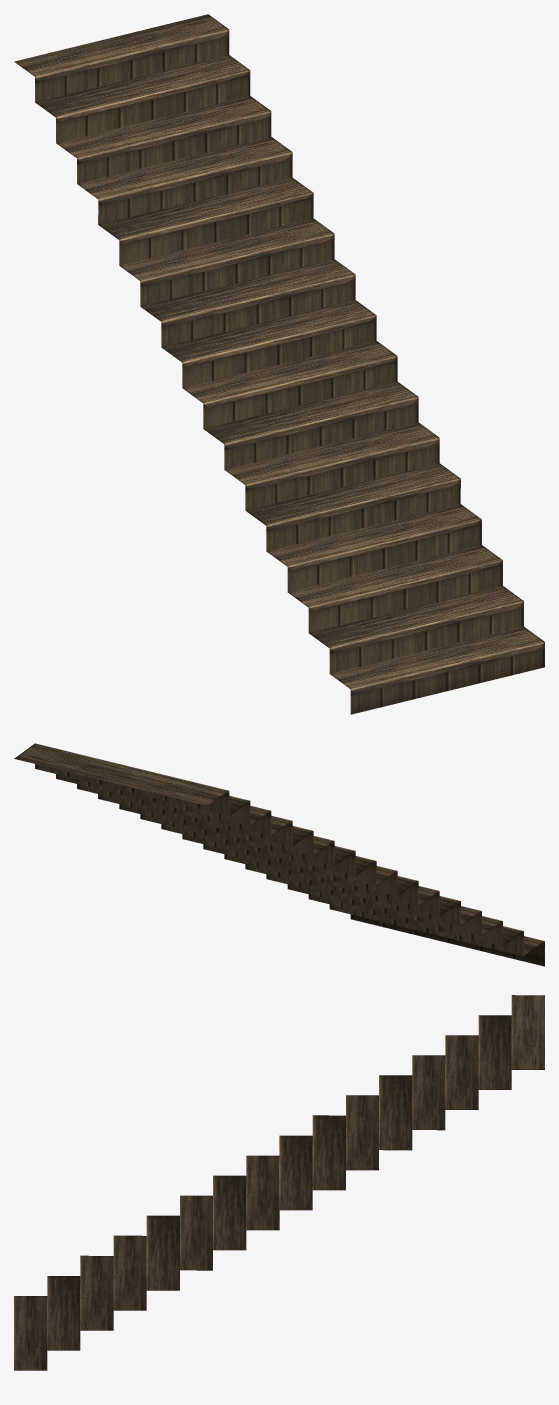
File: stairs_4m_2m_staff.fbx
The picture shows the model from 3 angles, top to bottom: view 1: azimuth 30°, elevation 25°; view 2: azimuth 150°, elevation 25°; view 3: azimuth 270°, elevation 25°; orthographic projection. The views are drawn at different scales.
Visible parts, largest first — view 1: pCube1; view 2: pCube1; view 3: pCube1.
Boxes of the visible parts, left/top/right/bottom form: pCube1: left=14, top=14, right=544, bottom=714; pCube1: left=14, top=743, right=544, bottom=966; pCube1: left=14, top=995, right=544, bottom=1370.
Size of the model in its own units: 200 by 400 by 600.
1 material, 1 textured.
